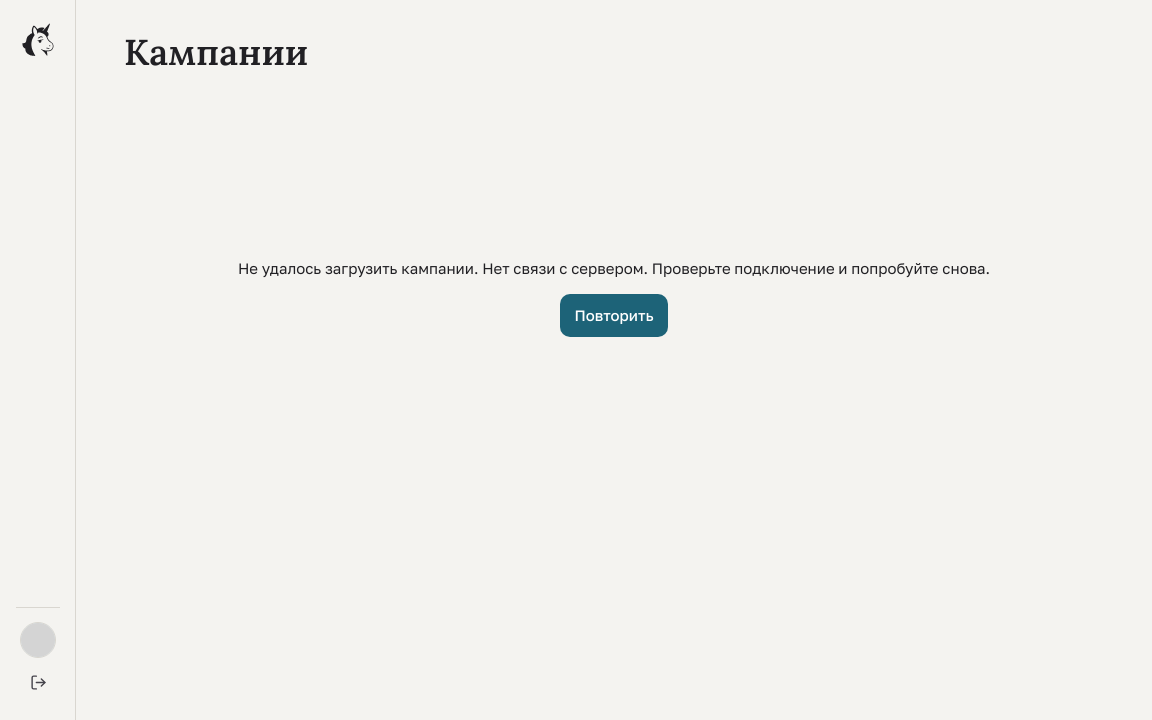
Test: CampaignListPage › does not disguise a failed load as an empty list and retries it
Expected: the message shows "Не удалось загрузить кампании. Нет связи с сервером.", [238, 256, 990, 279]
Step 1. Click the button "Повторить" → {"x": 614, "y": 316}, box [560, 294, 668, 337]
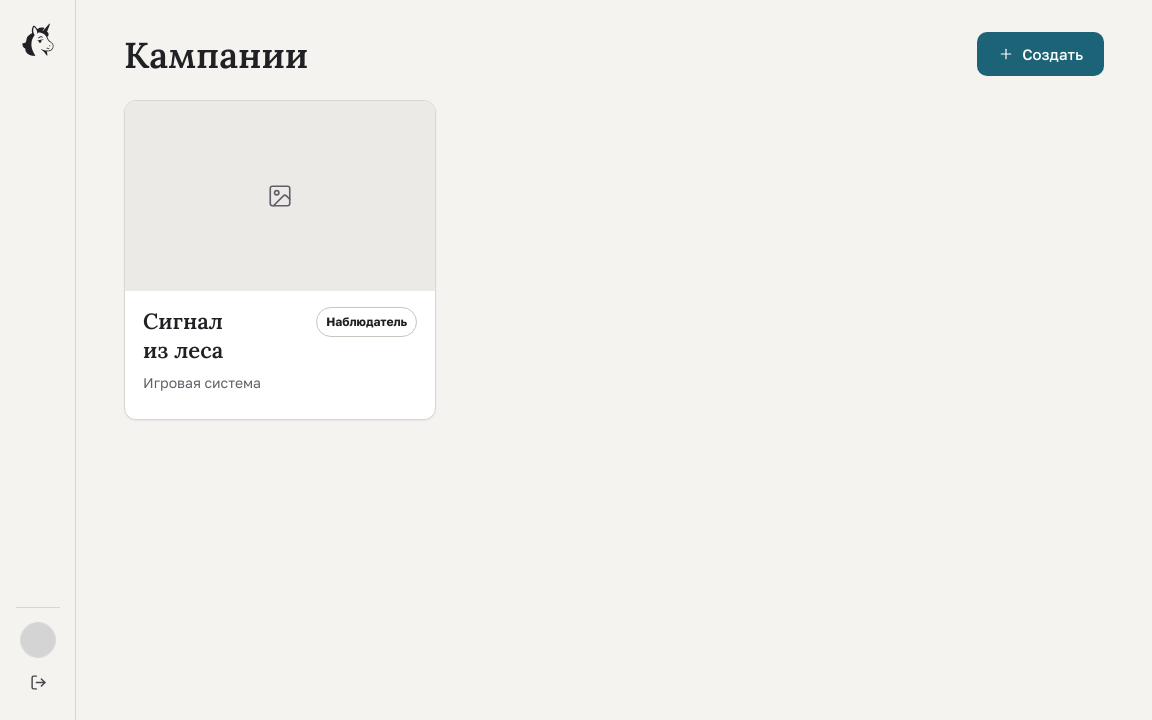
Now the text "Наблюдатель" is shown, box [316, 307, 417, 337]
